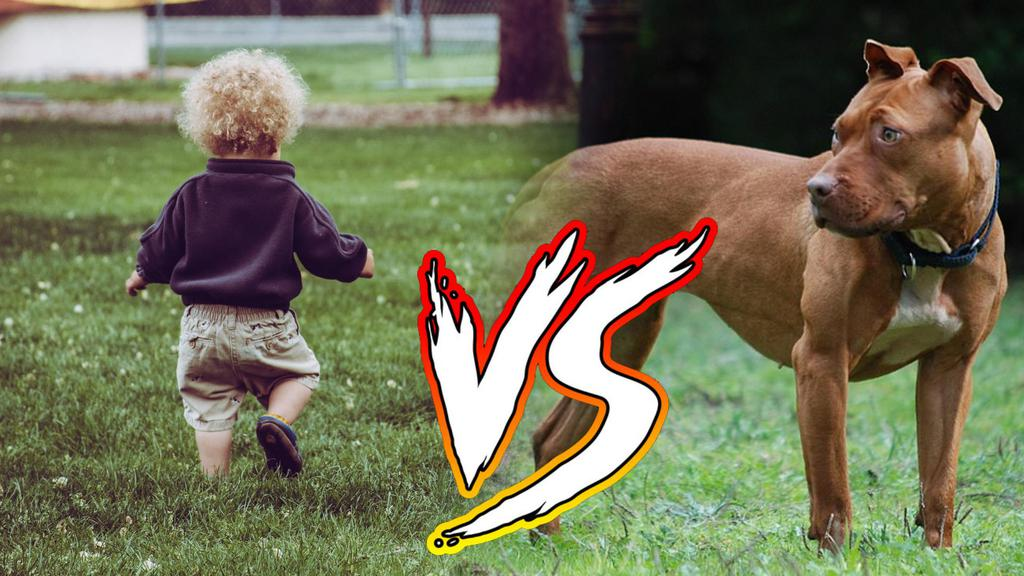child: (99, 50, 385, 492)
